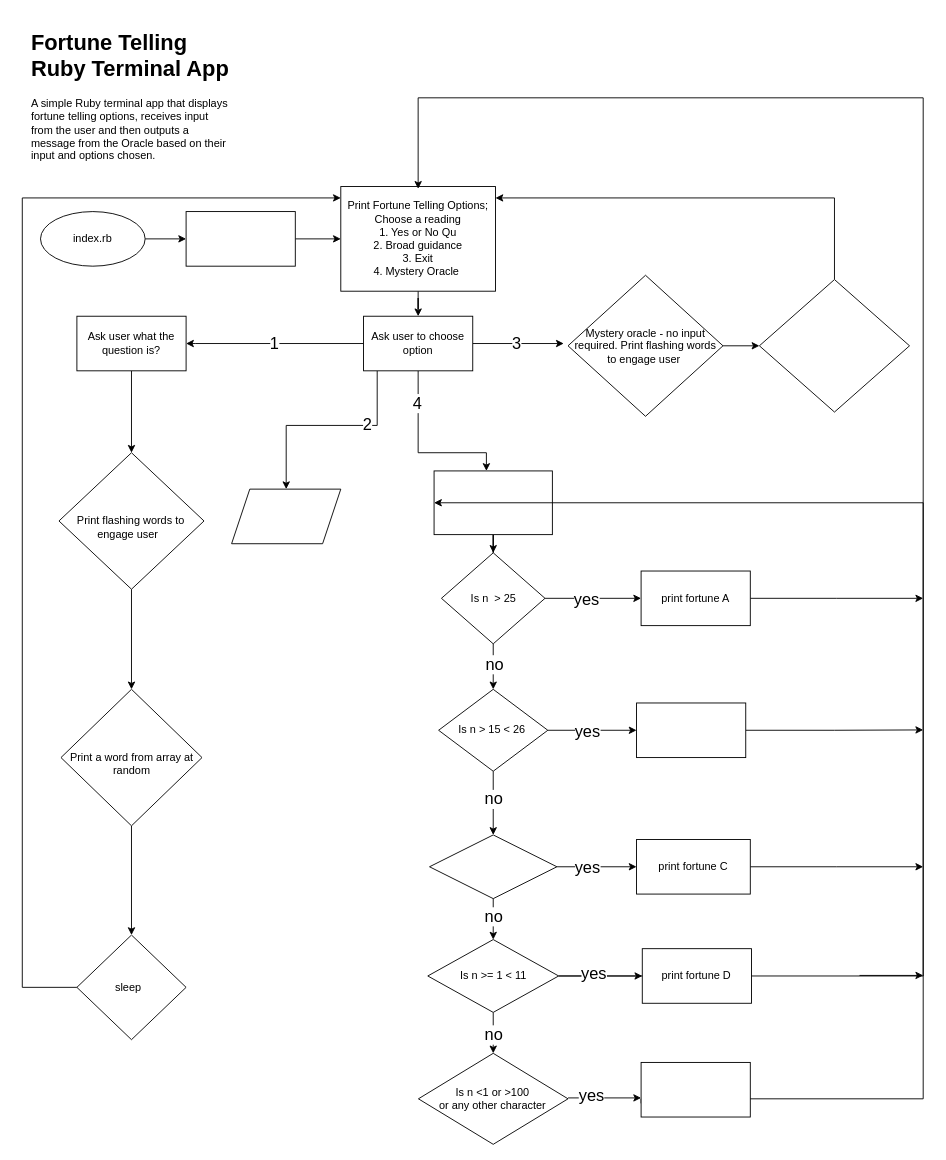
The diagram is 946 pixels wide and 1160 high, and some of its shapes have lost their labels. The centre of each missing label's shape, as x and y in pixels:
"Ask User to choose a number 1..100" goes at point 492,502.
"Exit Program" goes at point 286,516.
"Is n > 10 < 16" goes at point 493,866.
"Print a fortune from array at random" goes at point 834,345.
"Print error" goes at point 695,1089.
"print fortune B" goes at point 691,730.
"Print Welcome Graphic & message" goes at point 240,238.
